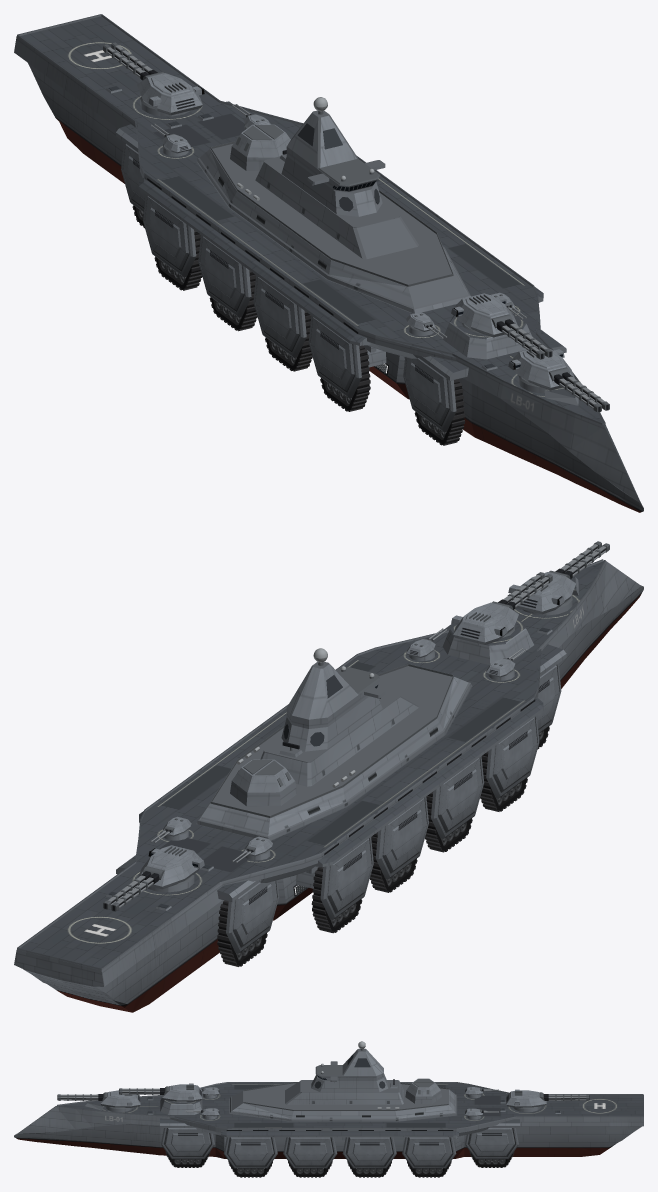
The model's file is ACO_LandShip.fbx.
3 renders of one model, top to bottom at view 1: azimuth 30°, elevation 25°; view 2: azimuth 150°, elevation 25°; view 3: azimuth 270°, elevation 25°, orthographic. The views are drawn at different scales.
Parts seen in each view (by area): view 1: LS_Hull, LS_Skirt_R2, LS_Skirt_R4, LS_Skirt_R5, LS_Skirt_R3, LS_Skirt_R1, LS_MainTurret_3, LS_MainTurret_2, LS_MainTurret_1, LS_TrackPod_R1, LS_TrackPod_R2, LS_CoreShutter_R (+7 smaller); view 2: LS_Hull, LS_Skirt_R5, LS_Skirt_R4, LS_Skirt_R2, LS_Skirt_R3, LS_Skirt_R6, LS_MainTurret_2, LS_MainTurret_3, LS_MainTurret_1, LS_TrackPod_R5, LS_TrackPod_R6, LS_Skirt_R1 (+7 smaller); view 3: LS_Hull, LS_Skirt_L3, LS_Skirt_L2, LS_Skirt_L4, LS_Skirt_L5, LS_Skirt_L1, LS_Skirt_L6, LS_MainTurret_2, LS_MainTurret_3, LS_MainTurret_1, LS_CoreShutter_L, LS_TrackPod_L4 (+8 smaller).
Part boxes in pixels (left/top/right/bottom): LS_Hull: left=14, top=14, right=643, bottom=512; LS_Skirt_R2: left=308, top=316, right=361, bottom=398; LS_Skirt_R4: left=198, top=235, right=251, bottom=317; LS_Skirt_R5: left=143, top=194, right=196, bottom=277; LS_Skirt_R3: left=253, top=275, right=306, bottom=357; LS_Skirt_R1: left=403, top=357, right=456, bottom=432; LS_MainTurret_3: left=137, top=73, right=204, bottom=115; LS_MainTurret_2: left=451, top=293, right=517, bottom=337; LS_MainTurret_1: left=508, top=349, right=574, bottom=390; LS_TrackPod_R1: left=414, top=379, right=465, bottom=445; LS_TrackPod_R2: left=320, top=345, right=370, bottom=411; LS_CoreShutter_R: left=232, top=124, right=279, bottom=157; LS_Hull: left=14, top=559, right=643, bottom=1012; LS_Skirt_R5: left=320, top=837, right=373, bottom=919; LS_Skirt_R4: left=375, top=797, right=428, bottom=879; LS_Skirt_R2: left=486, top=716, right=539, bottom=798; LS_Skirt_R3: left=431, top=756, right=484, bottom=838; LS_Skirt_R6: left=226, top=880, right=279, bottom=953; LS_MainTurret_2: left=451, top=602, right=518, bottom=644; LS_MainTurret_3: left=138, top=845, right=204, bottom=889; LS_MainTurret_1: left=508, top=572, right=575, bottom=614; LS_TrackPod_R5: left=311, top=867, right=362, bottom=933; LS_TrackPod_R6: left=217, top=900, right=267, bottom=966; LS_Skirt_R1: left=537, top=663, right=561, bottom=733; LS_Hull: left=14, top=1041, right=643, bottom=1158; LS_Skirt_L3: left=283, top=1137, right=337, bottom=1168; LS_Skirt_L2: left=223, top=1137, right=277, bottom=1168; LS_Skirt_L4: left=342, top=1137, right=396, bottom=1168; LS_Skirt_L5: left=402, top=1137, right=456, bottom=1168; LS_Skirt_L1: left=161, top=1128, right=214, bottom=1159; LS_Skirt_L6: left=465, top=1128, right=518, bottom=1159; LS_MainTurret_2: left=162, top=1083, right=202, bottom=1101; LS_MainTurret_3: left=506, top=1089, right=546, bottom=1107; LS_MainTurret_1: left=100, top=1090, right=140, bottom=1107; LS_CoreShutter_L: left=406, top=1083, right=440, bottom=1096; LS_TrackPod_L4: left=347, top=1161, right=391, bottom=1177.
Size of the model in its own units: 110 by 113 by 572.
Materials: 2 (1 with a texture image).
